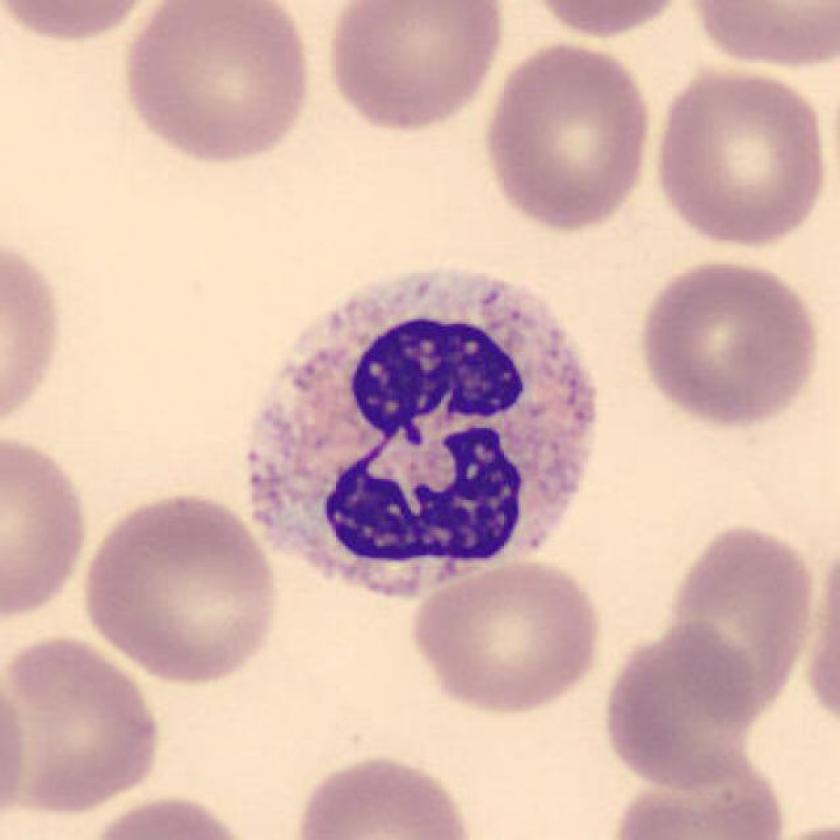neutrophil: (245, 272, 600, 599)
